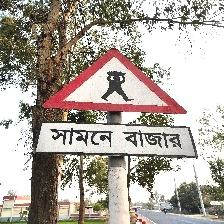Market-in-front: (35, 47, 195, 158)
